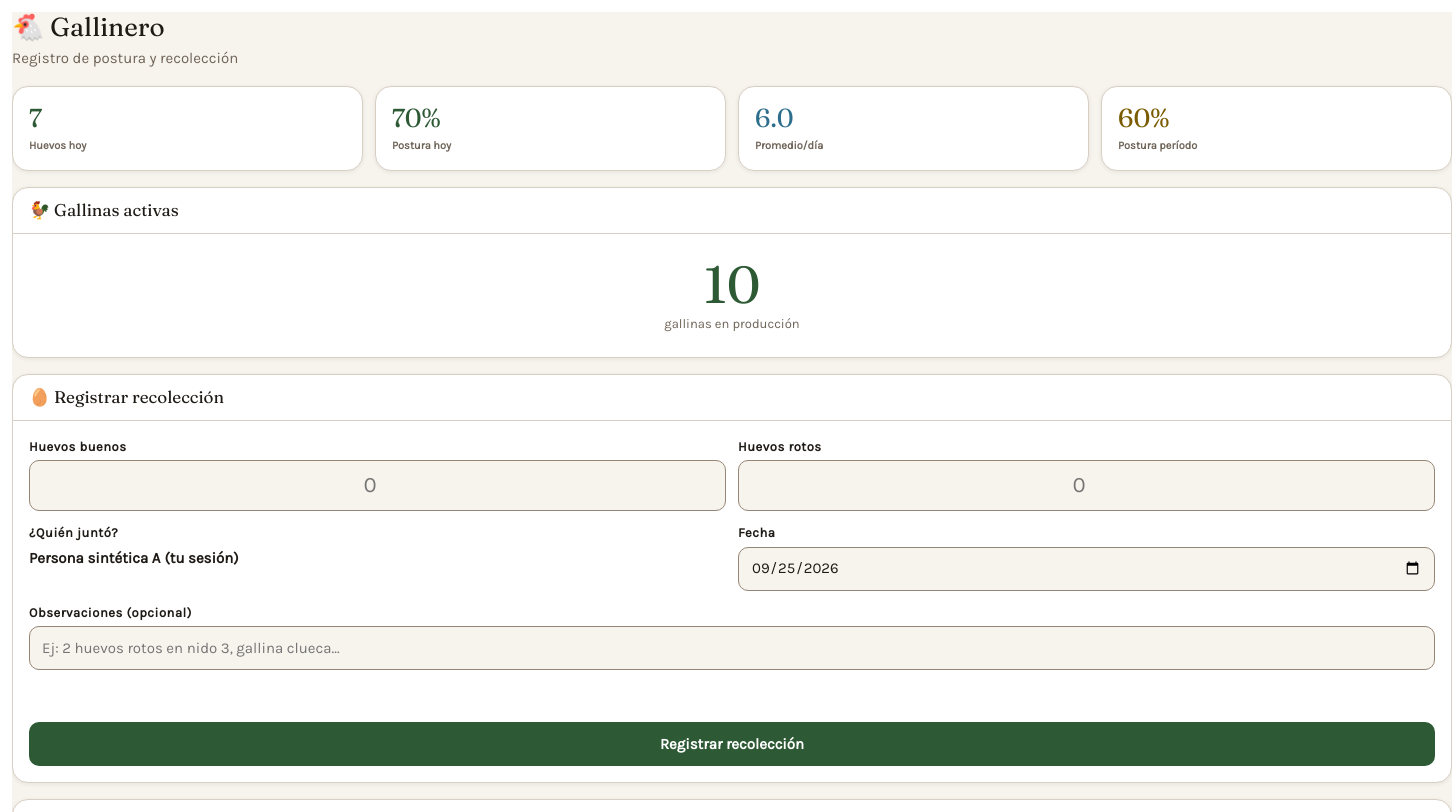
Test: Gallinero — pantalla del prototipo › una fecha futura se rechaza en el cliente (el backend vuelve a decidir)
This screenshot has width=1452, height=812.
Expected: the list named "Indicadores del gallinero" is shown, [12,86,1451,171]
Type "2026-09-26" into the date field labelled "Fecha". click: (1086, 569)
box: [738,547,1435,591]
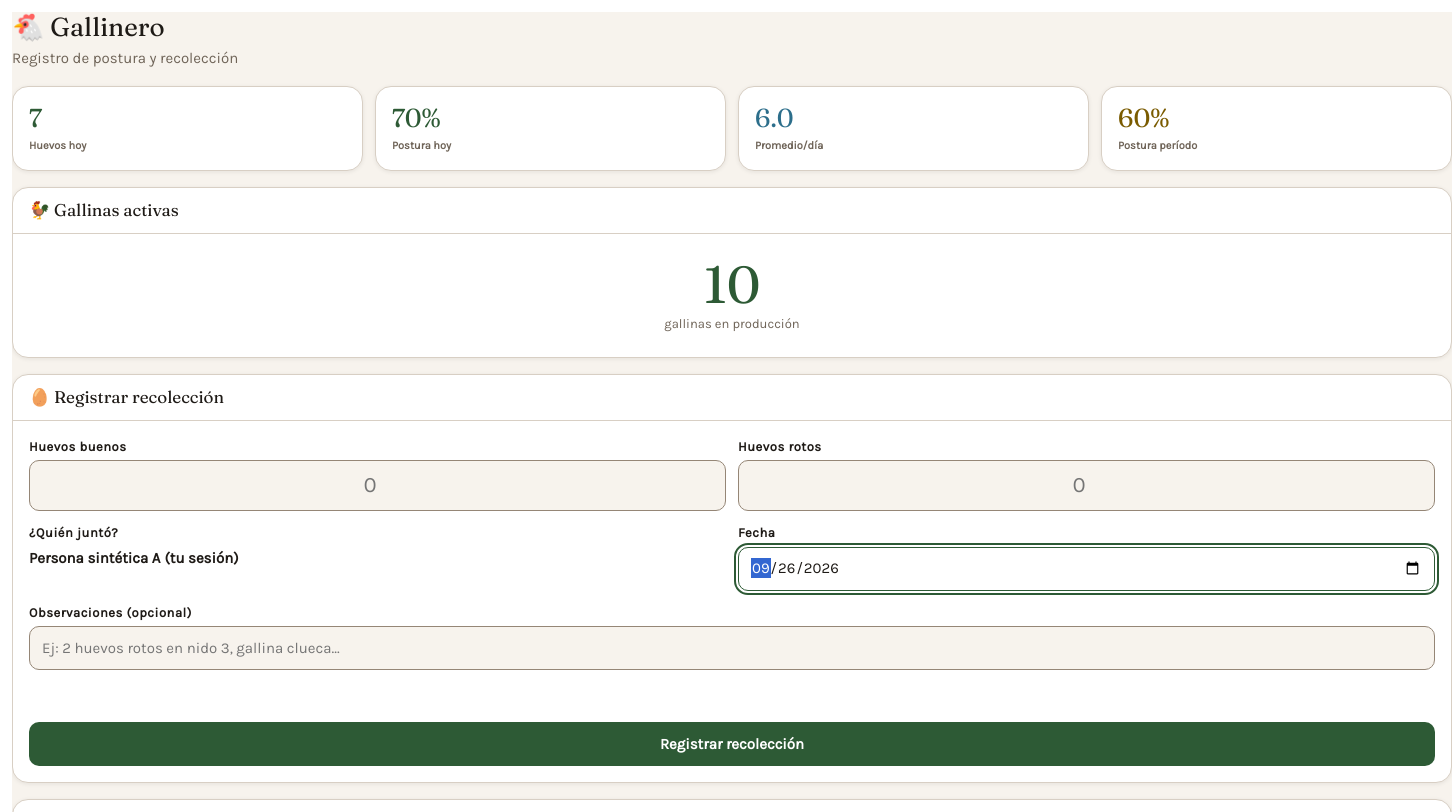
Type "1" into the number field labelled "Huevos buenos". click: (378, 486)
box: [29,460,726,511]
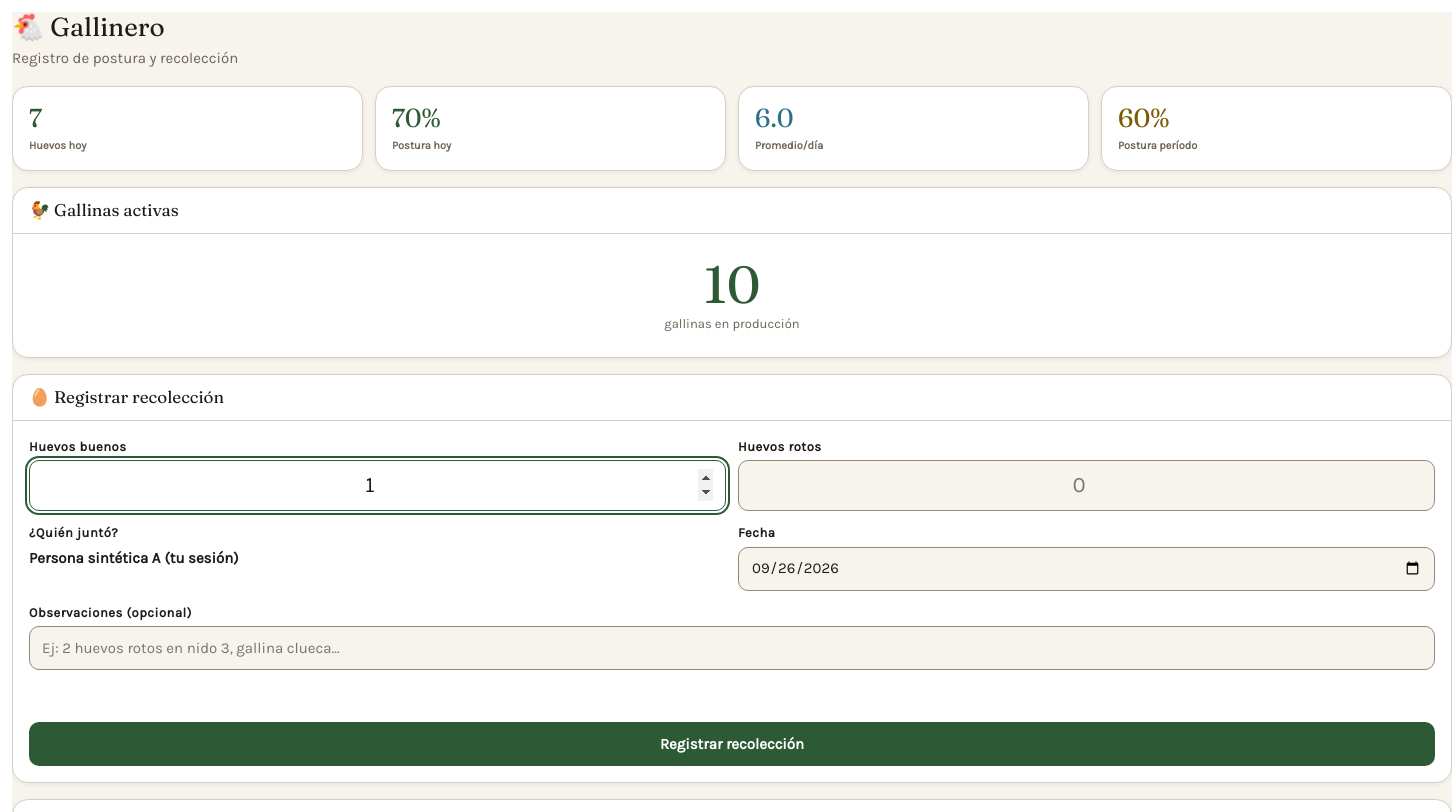
Click the button "Registrar recolección". click: (732, 744)
box: [29,722,1435,766]
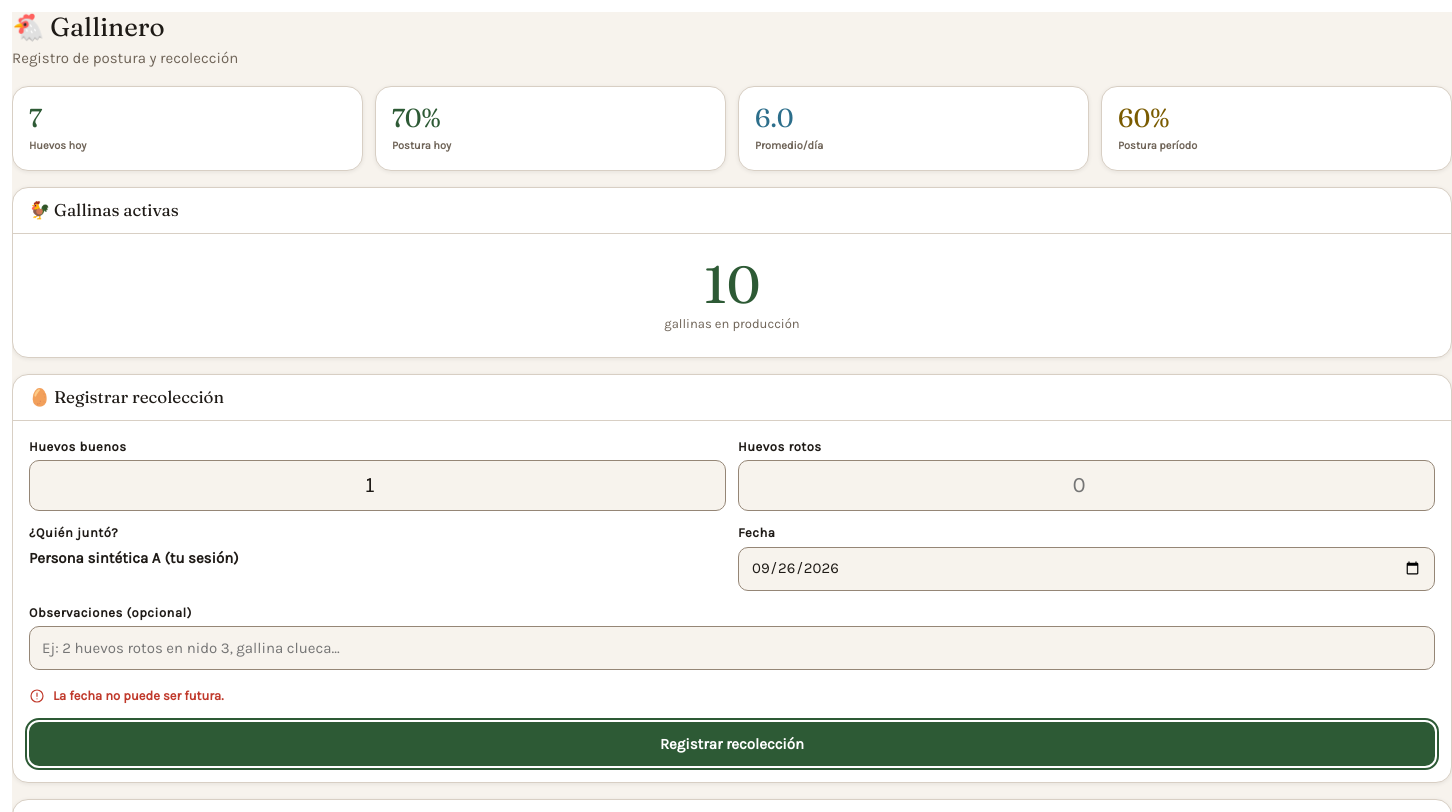
Result: the message reads "La fecha no puede ser futura." at [53,688,224,703]
